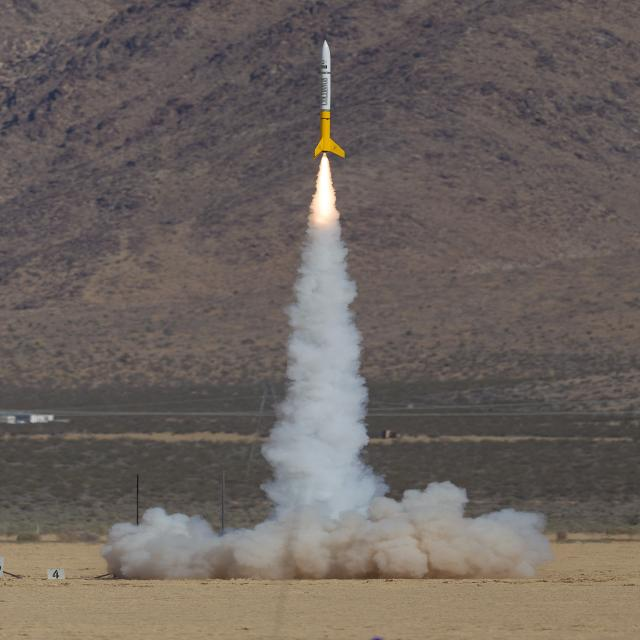Rocket: (314, 39, 345, 159)
